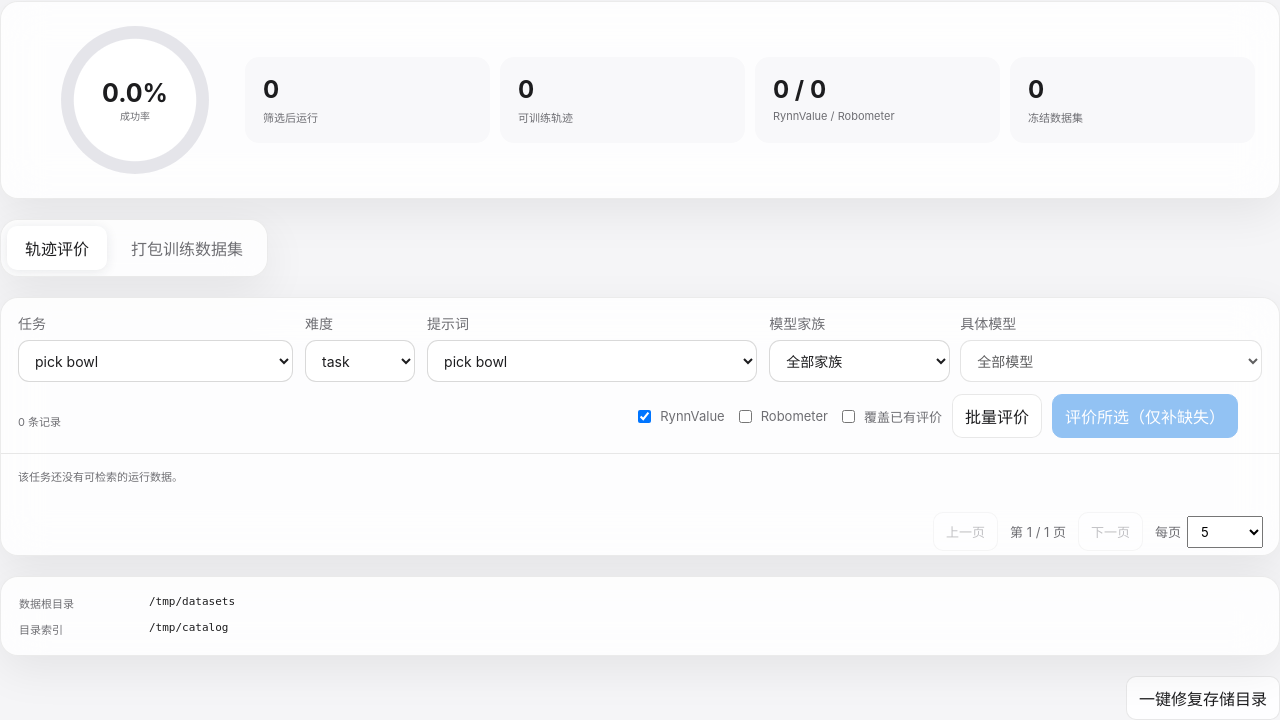
Test: dataset evaluation configuration › repairs storage from the dataset page and refreshes without evaluation
(page scrolled)
Check: the text "/tmp/datasets" is shown, box [149,596,235,608]
Click the button "一键修复存储目录" at (1203, 698), box [1126,676,1279,719]
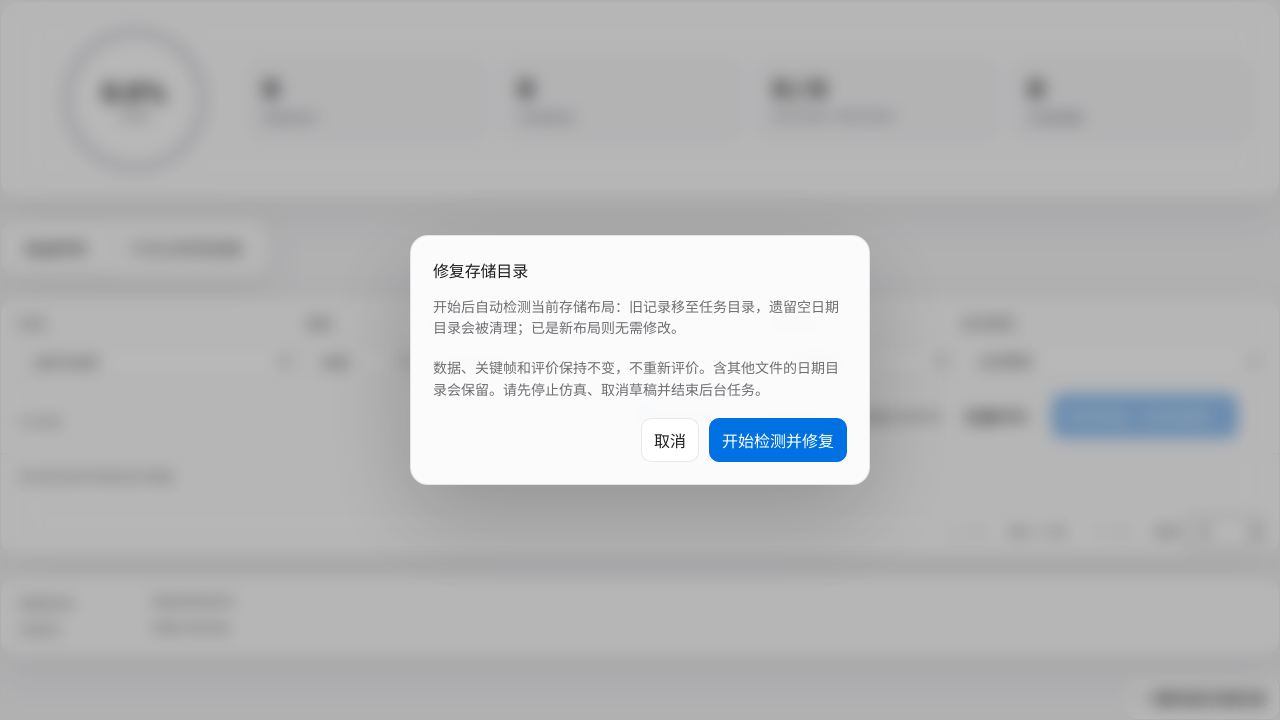
Check: the dialog is shown
Click the button "开始检测并修复" at (778, 440), box [709,418,847,462]
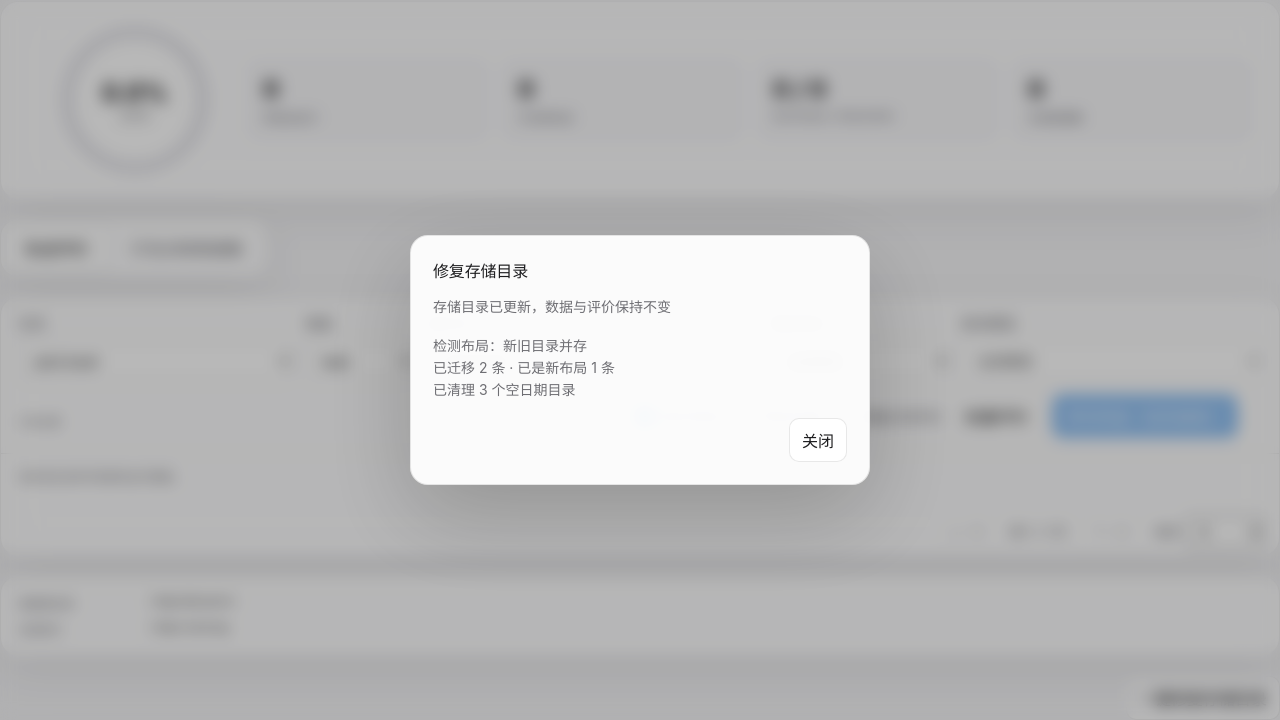
Check: the text "已迁移 2 条" is shown, box [433,337,615,398]
